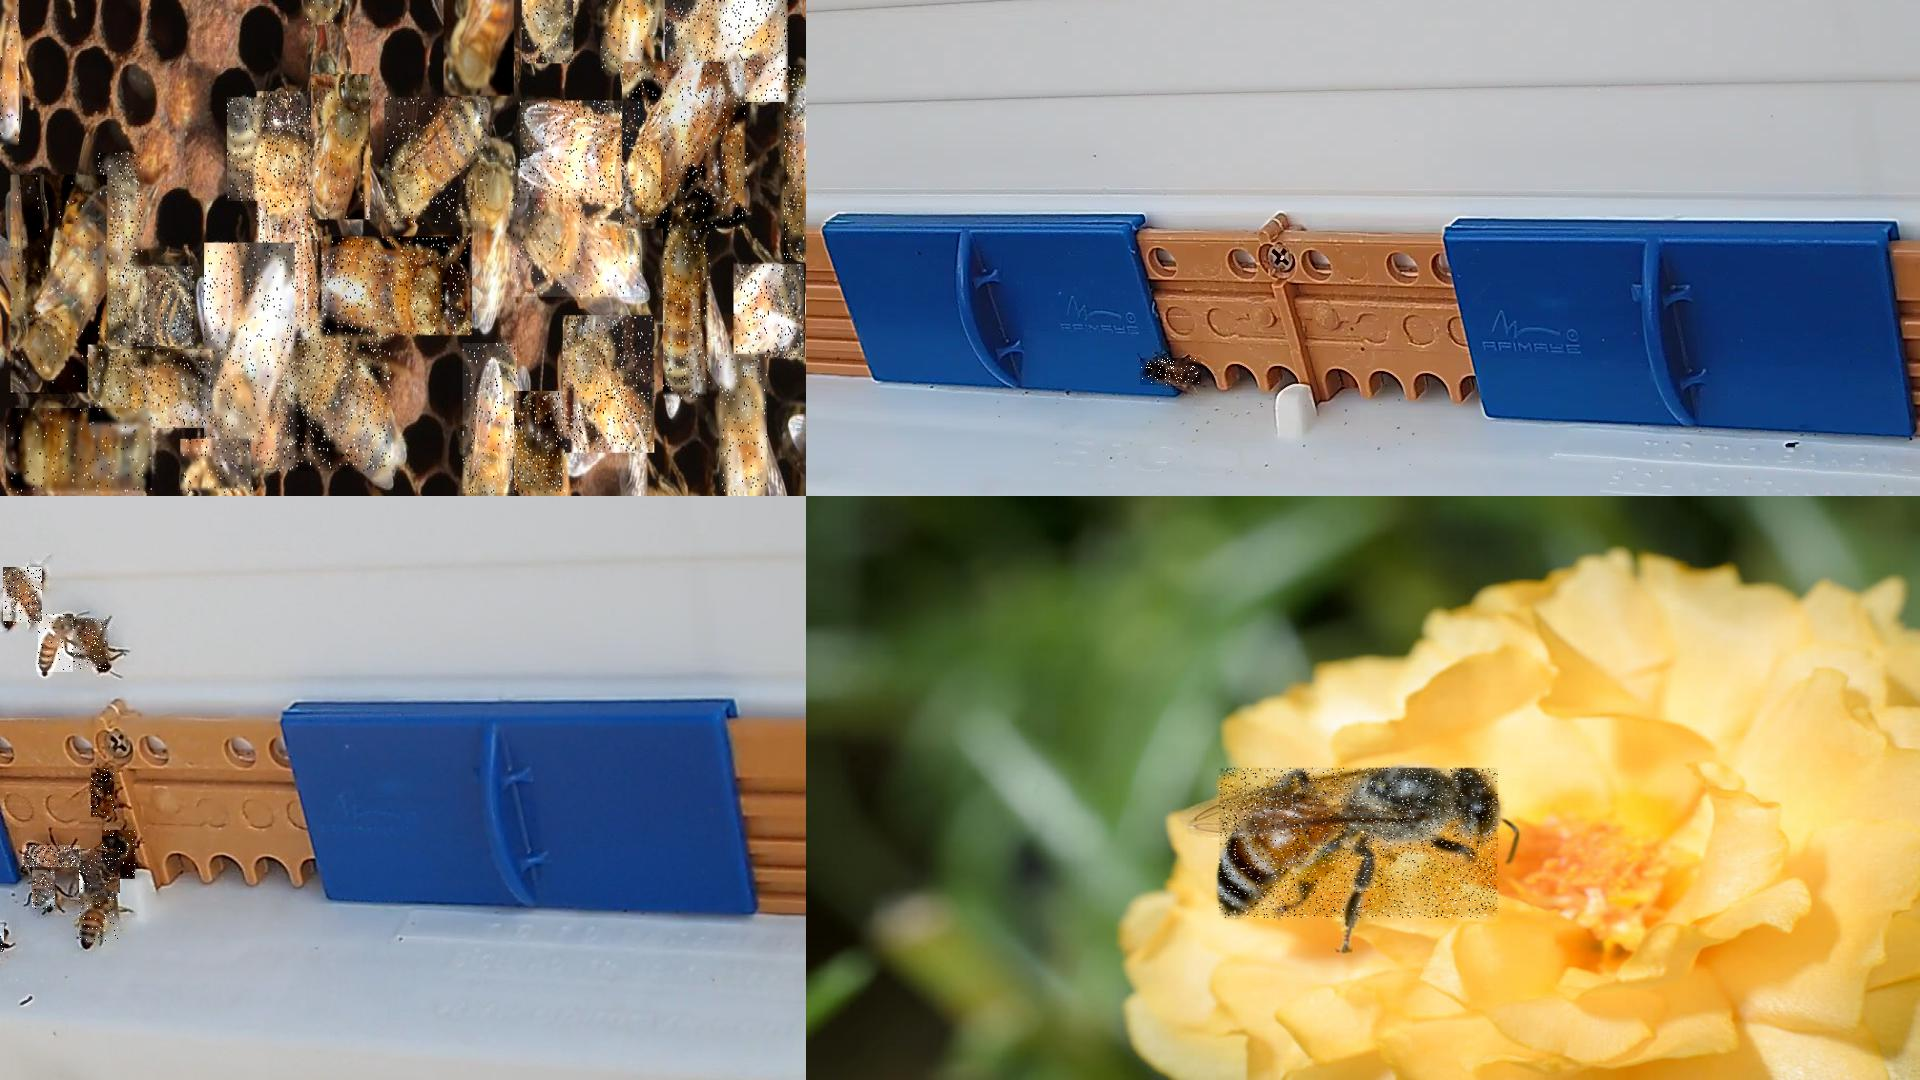bee: (385, 99, 489, 228), (563, 315, 655, 455), (91, 349, 214, 430), (663, 210, 711, 402), (311, 74, 371, 222), (99, 153, 144, 348), (463, 343, 518, 495), (443, 0, 516, 98), (733, 264, 806, 360), (719, 355, 767, 496), (141, 266, 195, 348), (600, 0, 655, 74), (228, 98, 265, 203), (785, 65, 804, 261), (522, 0, 575, 65), (0, 0, 20, 146), (3, 568, 44, 626), (38, 615, 74, 675), (79, 849, 121, 898), (73, 620, 109, 671), (102, 829, 136, 880), (1141, 359, 1203, 386), (22, 845, 82, 868), (91, 767, 115, 818), (32, 870, 55, 911), (303, 0, 339, 25)
drone: (12, 175, 112, 400), (622, 62, 749, 231), (204, 243, 295, 469), (277, 311, 392, 473), (512, 167, 642, 299), (322, 236, 473, 336), (257, 91, 319, 332), (520, 102, 662, 204), (665, 0, 789, 104), (7, 409, 154, 496), (516, 392, 567, 496), (181, 440, 256, 496)
pollenbee: (1220, 769, 1499, 919), (79, 885, 119, 943)
